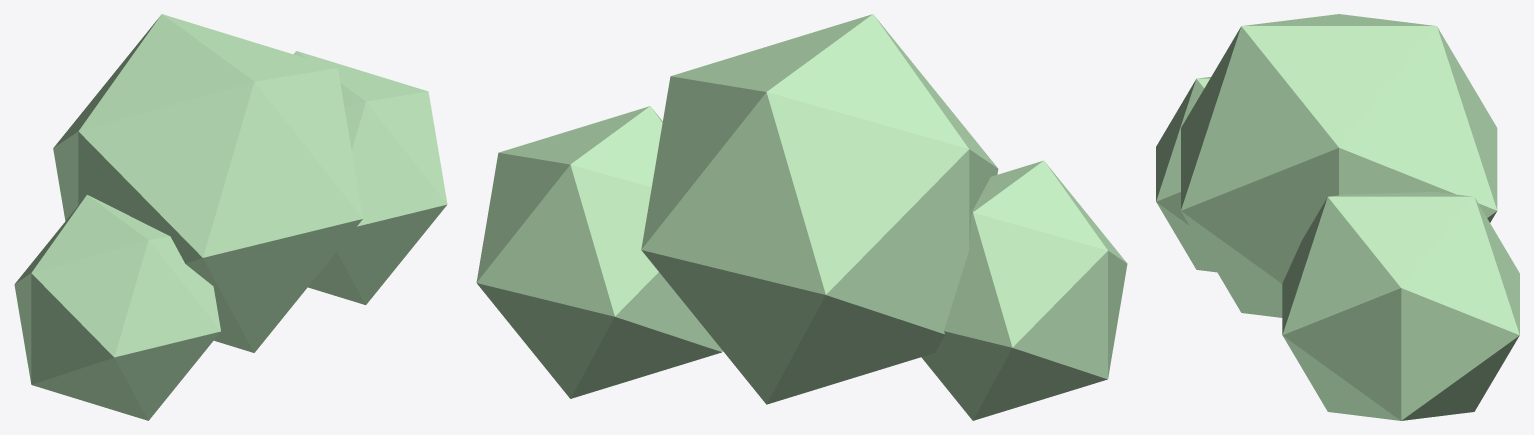
The model's file is puff.glb.
The picture shows the model from 3 angles, left to right: view 1: azimuth 30°, elevation 25°; view 2: azimuth 150°, elevation 25°; view 3: azimuth 270°, elevation 25°; orthographic projection. The views are drawn at different scales.
Parts seen in each view (by area): view 1: Puff; view 2: Puff; view 3: Puff.
Part boxes in pixels (<box>): Puff: <box>14,14,447,420</box>; Puff: <box>476,14,1127,420</box>; Puff: <box>1156,14,1519,420</box>.
Size of the model in its own units: 0.3646 by 0.2201 by 0.2346.
